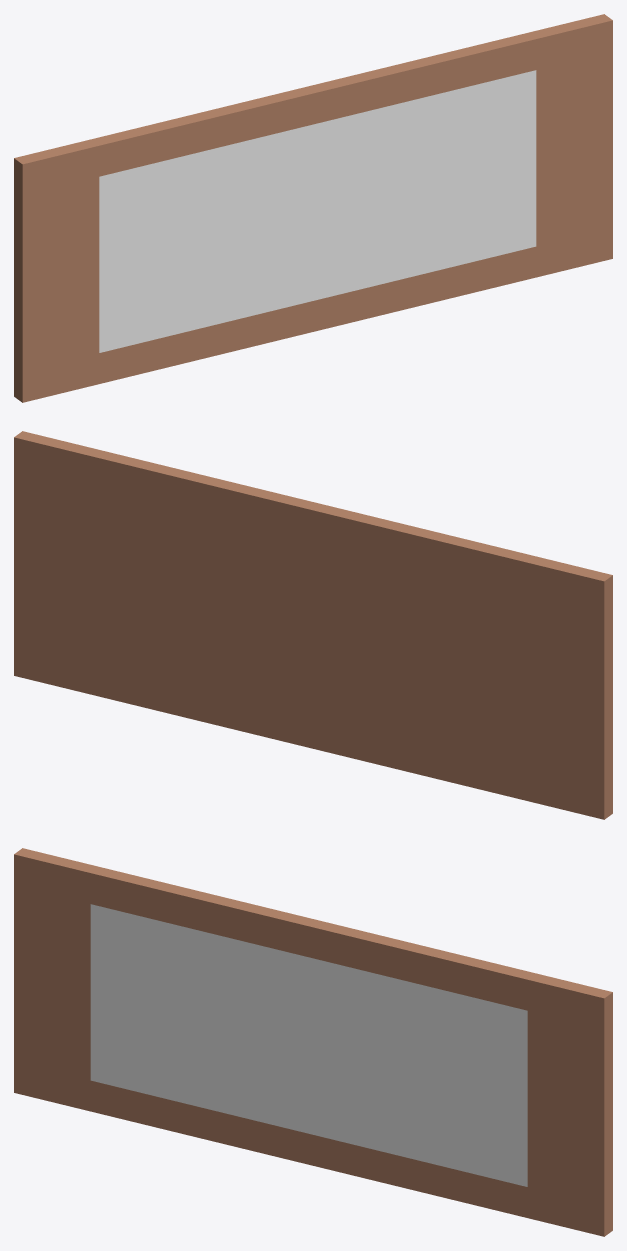
The picture shows the model from 3 angles, top to bottom: view 1: azimuth 30°, elevation 25°; view 2: azimuth 150°, elevation 25°; view 3: azimuth 330°, elevation 25°; orthographic projection.
Parts seen in each view (by area): view 1: Cube; view 2: Cube; view 3: Cube.
Boxes of the visible parts, box(x1,y1,x2,y2) form: Cube: box(14, 14, 612, 402); Cube: box(14, 431, 612, 819); Cube: box(14, 848, 612, 1236).
Bounding box in the file's own units: 315 × 122 × 7.94.
